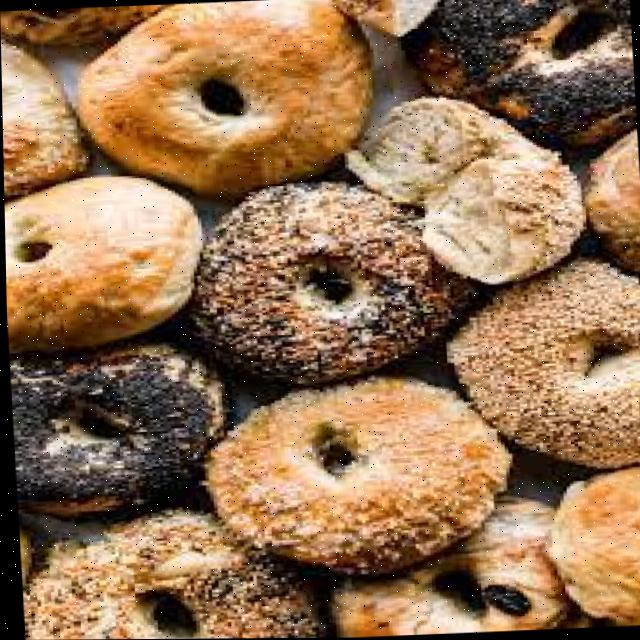Bagel: (203, 377, 507, 573), (187, 182, 472, 383), (80, 0, 371, 195), (446, 260, 640, 467), (22, 510, 321, 640), (9, 344, 219, 513), (4, 178, 200, 351), (330, 499, 566, 638)
